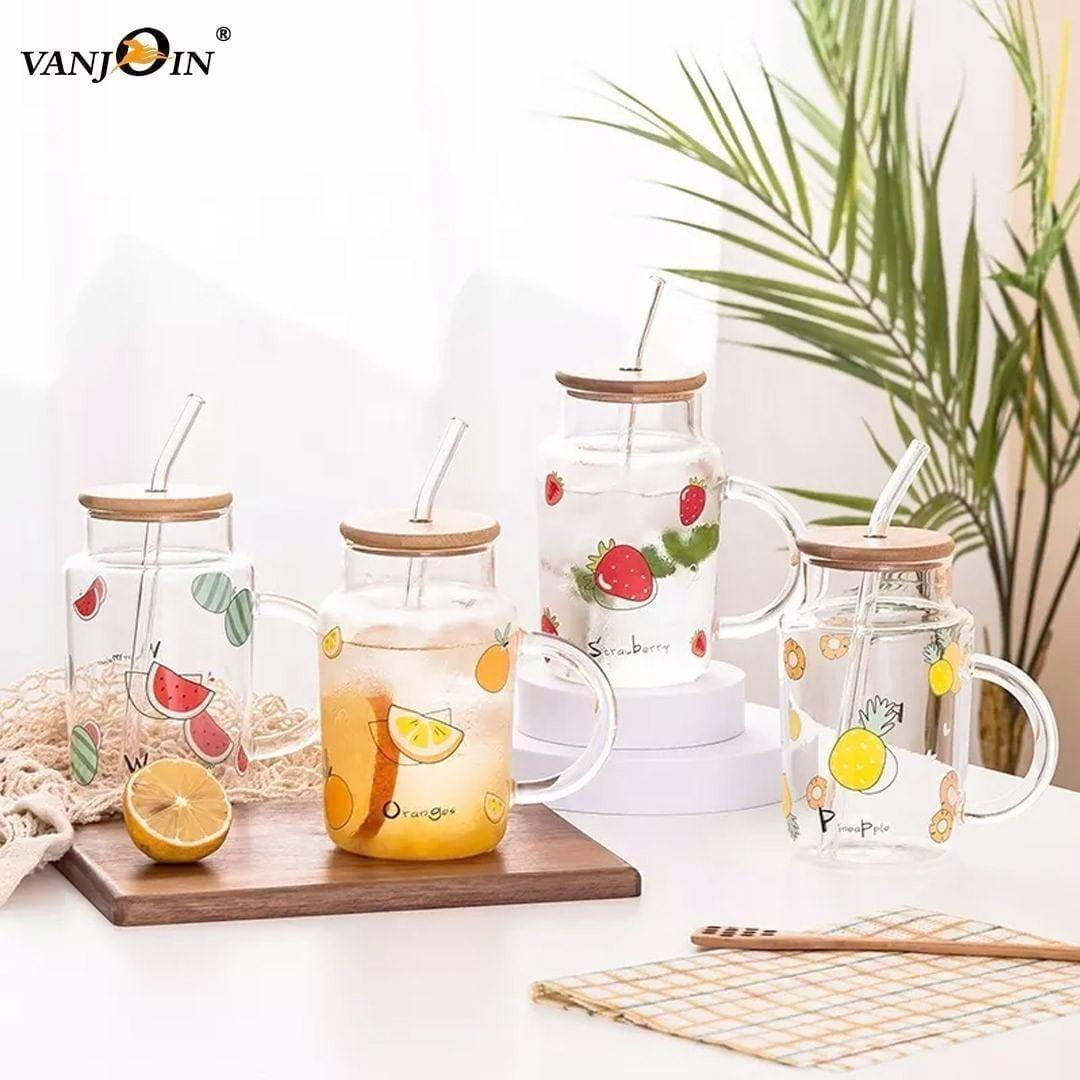glass-mug: (309, 501, 619, 870), (764, 512, 1064, 873), (527, 351, 816, 684), (52, 474, 334, 812)
